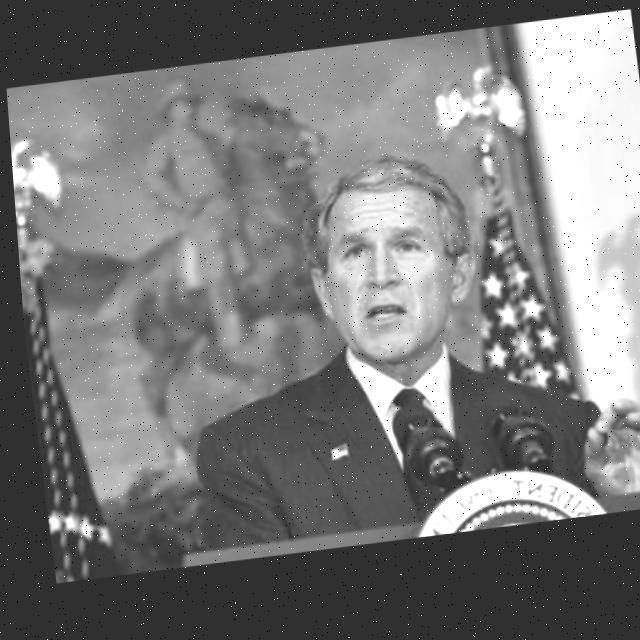face: (297, 167, 474, 375)
